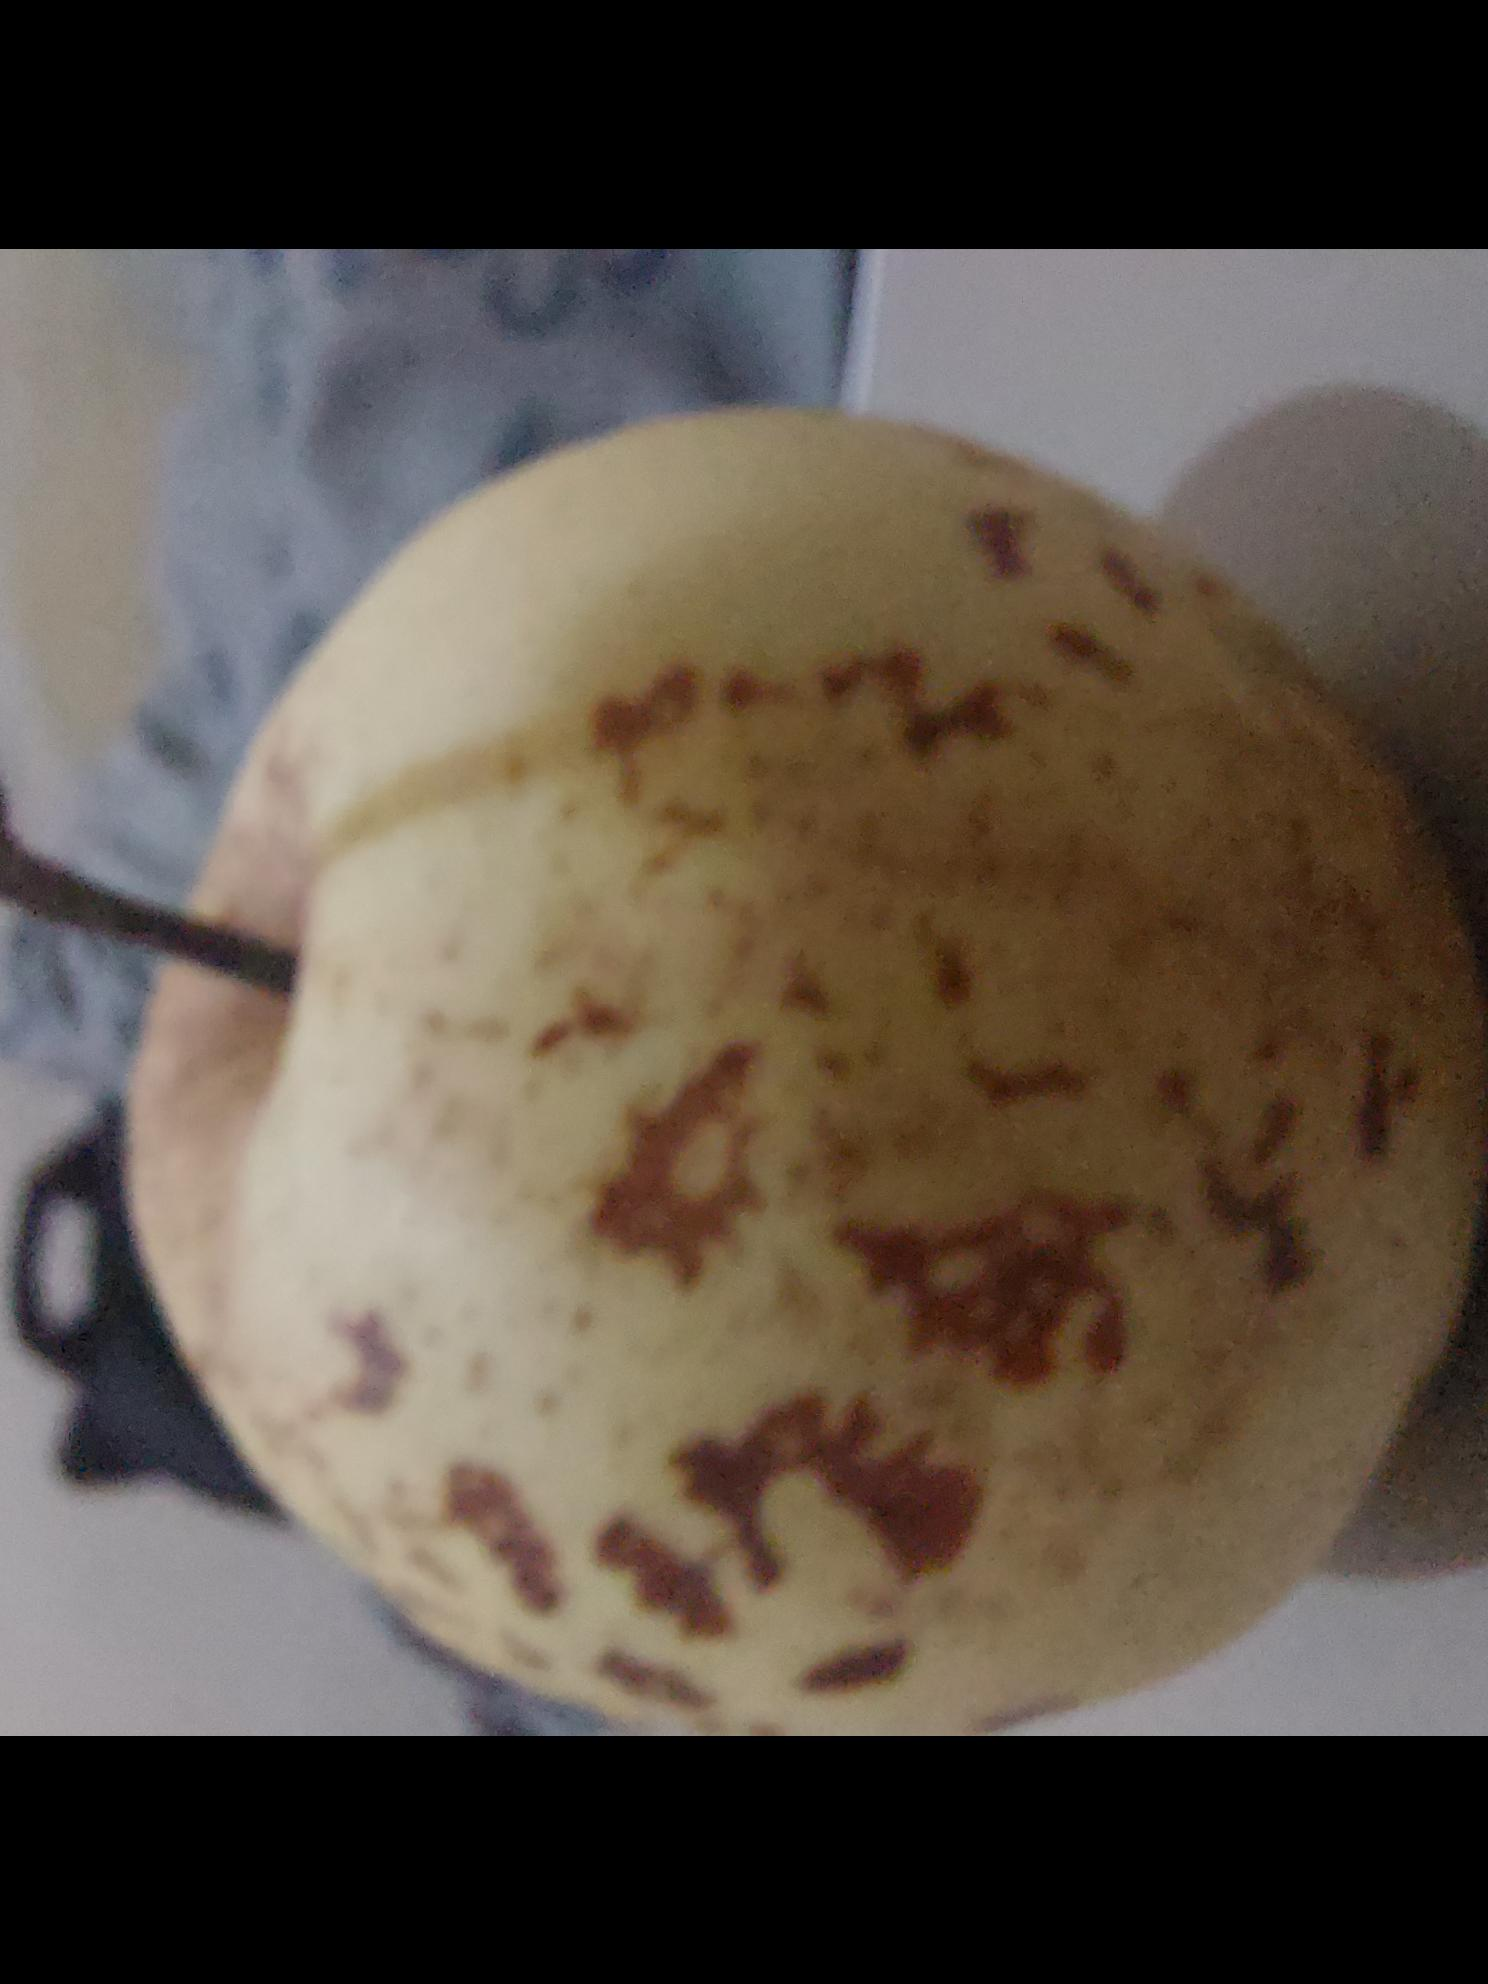Bad Pear: (167, 434, 1454, 1712)
